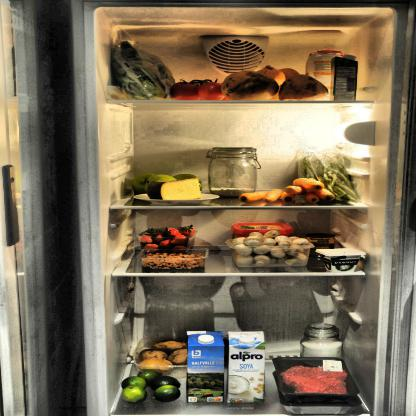apple: (129, 169, 202, 194)
butter: (230, 218, 298, 236)
carrot: (239, 176, 337, 206)
cheese: (146, 177, 204, 202)
corn: (306, 232, 339, 257)
green_beans: (295, 148, 363, 204)
ground_beef: (276, 359, 371, 415)
heavy_cream: (328, 54, 360, 102)
lime: (121, 370, 182, 404)
milk: (180, 330, 228, 406), (227, 328, 271, 404)
mushrooms: (225, 234, 310, 267)
potato: (133, 335, 189, 370)
shrimp: (140, 249, 209, 271)
spinach: (111, 28, 176, 99)
strawberries: (138, 224, 193, 256)
sweet_potato: (226, 60, 328, 101)
tomato: (168, 79, 233, 100)
